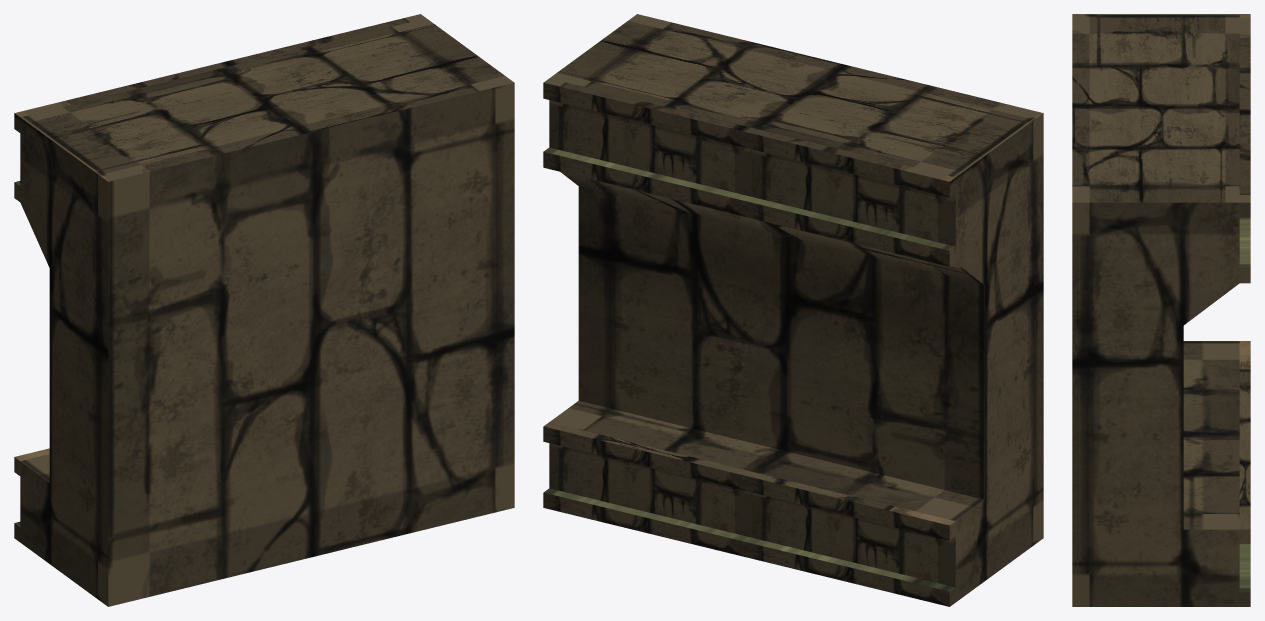
Rendered from lowlowerwallthing.FBX.
3 views of the same model, side by side, from view 1: azimuth 30°, elevation 25°; view 2: azimuth 150°, elevation 25°; view 3: azimuth 270°, elevation 25° (orthographic). The views are drawn at different scales.
Parts seen in each view (by area): view 1: Box014; view 2: Box014; view 3: Box014.
Part boxes in pixels (bbox=[...]): Box014: bbox=[14, 14, 514, 606]; Box014: bbox=[543, 14, 1043, 606]; Box014: bbox=[1072, 14, 1250, 606].
Size of the model in its own units: 40 by 40 by 16.
